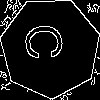C: (25, 22, 72, 62)
